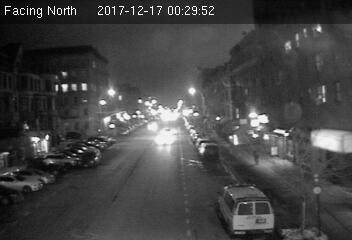car: (77, 149, 104, 169), (199, 142, 219, 159)
police: (216, 178, 275, 233)
